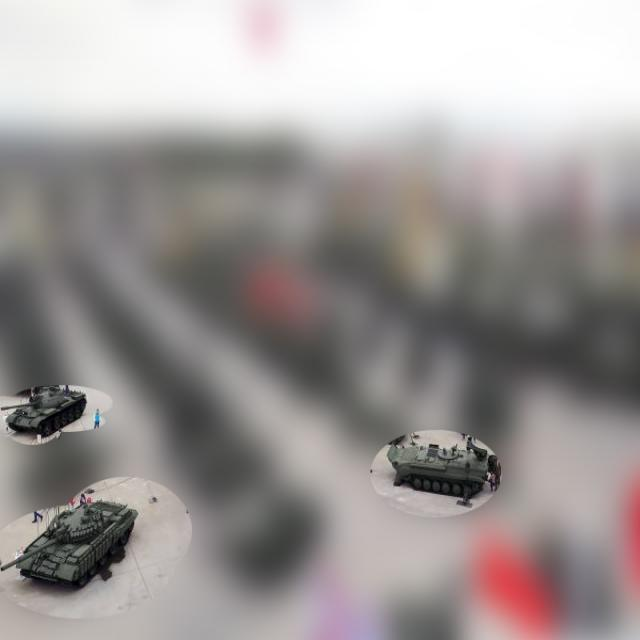tank: (2, 495, 138, 586), (384, 429, 503, 503), (0, 381, 91, 440)
